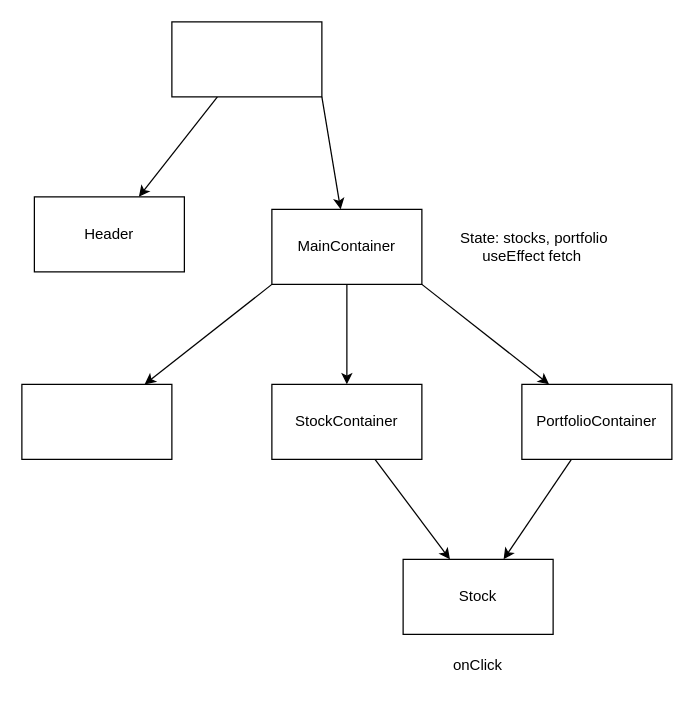
Image size: 694x706. Some labels were removed from this diagram. The box of each missing label's shape, as (x1, y1, x2, y2) in pixels:
App: (171, 21, 322, 97)
SearchBar: (21, 383, 172, 459)
